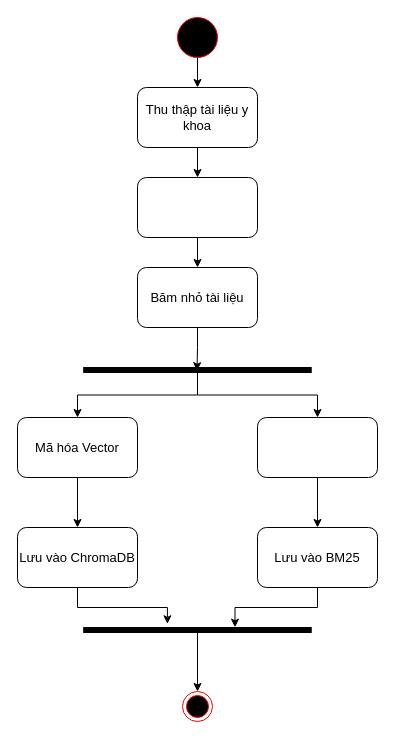
Some shapes in this 395 by 739 pixel diagram are drawn without their labels. Here are the shapes that lost their labels. From the top down, the box of each, then its label:
(136, 176, 258, 238): Tiền xử lý và làm sạch dữ liệu
(256, 416, 378, 478): Trích xuất từ khóa
